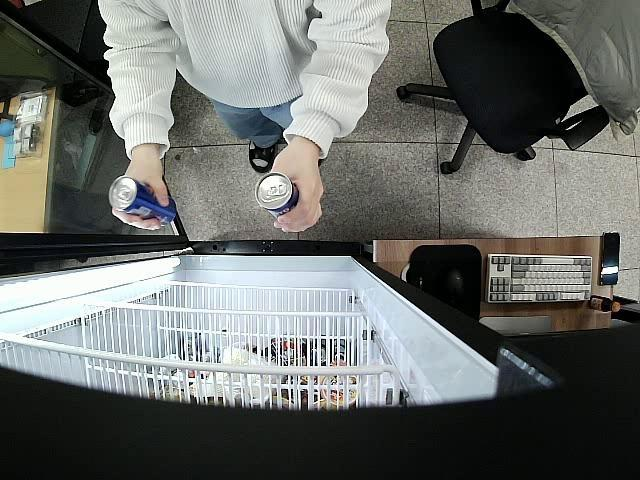16_hot6: (108, 176, 177, 228), (256, 173, 300, 220)
